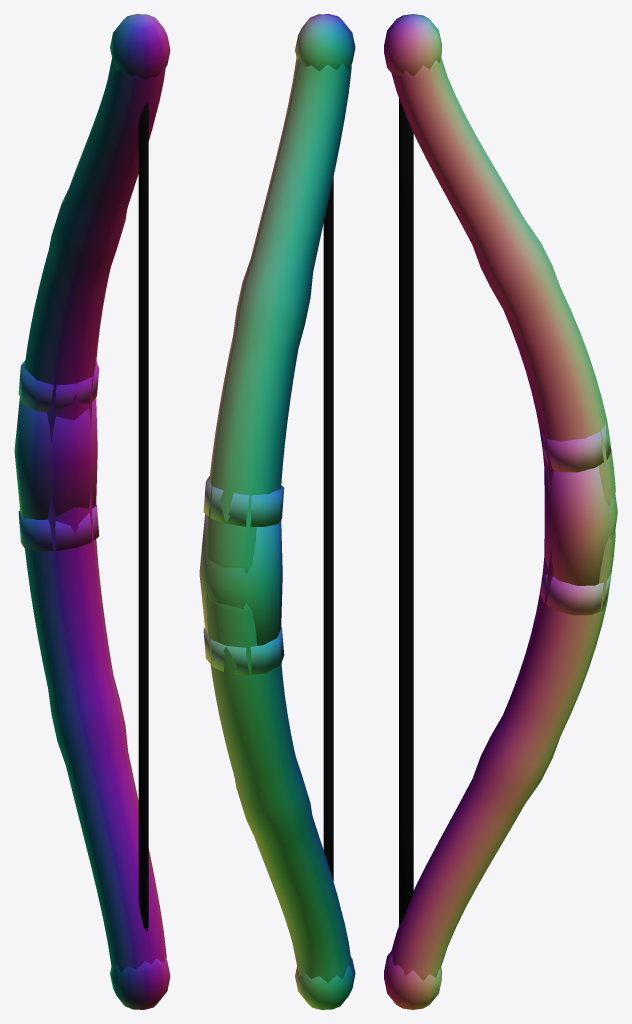
Rendered from SM_Weapon_Bow.fbx.
The picture shows the model from 3 angles, left to right: view 1: azimuth 30°, elevation 25°; view 2: azimuth 150°, elevation 25°; view 3: azimuth 270°, elevation 25°; orthographic projection.
Parts seen in each view (by area): view 1: SM_Weapon_Bow; view 2: SM_Weapon_Bow; view 3: SM_Weapon_Bow.
Boxes of the visible parts, x1,y1,x2,y2 form: SM_Weapon_Bow: [14, 14, 170, 1009]; SM_Weapon_Bow: [199, 14, 355, 1009]; SM_Weapon_Bow: [384, 14, 617, 1009].
Bounding box in the file's own units: 0.077 × 0.9722 × 0.2074.
